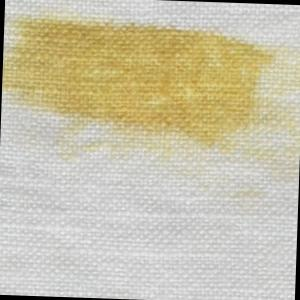Oil Stain: (1, 9, 300, 216)
